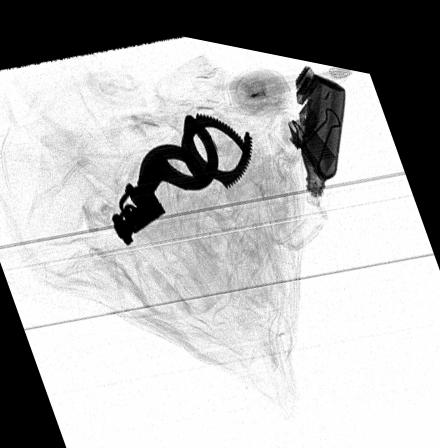HandCuffs: (109, 101, 253, 241)
